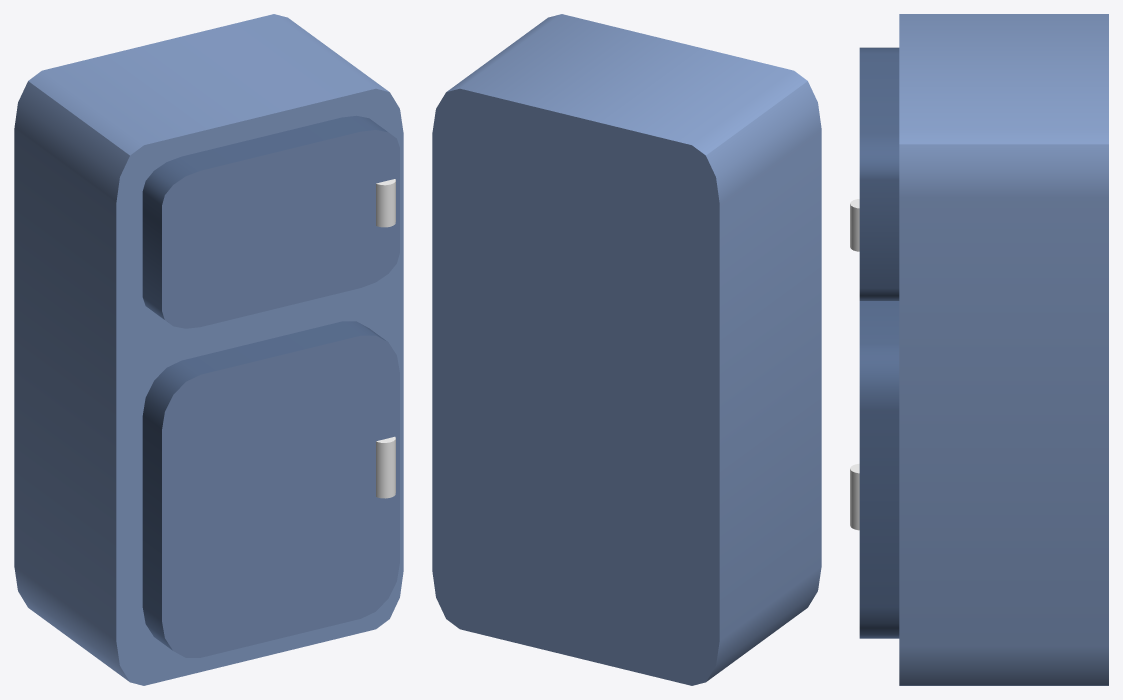
File: Lv2Fridge.fbx
3 renders of one model, left to right at view 1: azimuth 30°, elevation 25°; view 2: azimuth 150°, elevation 25°; view 3: azimuth 270°, elevation 25°, orthographic. The views are drawn at different scales.
Visible parts, largest first — view 1: Lv2Fridge, Lv2FridgeDoor, Lv2UpperFridgeDoor; view 2: Lv2Fridge; view 3: Lv2Fridge, Lv2FridgeDoor, Lv2UpperFridgeDoor.
Part boxes in pixels (bbox=[...]): Lv2Fridge: bbox=[14, 14, 403, 685]; Lv2FridgeDoor: bbox=[142, 321, 399, 657]; Lv2UpperFridgeDoor: bbox=[142, 115, 399, 328]; Lv2Fridge: bbox=[432, 14, 821, 685]; Lv2Fridge: bbox=[899, 14, 1108, 685]; Lv2FridgeDoor: bbox=[850, 301, 899, 638]; Lv2UpperFridgeDoor: bbox=[850, 47, 899, 300].
Bounding box in the file's own units: 78.02 × 140 × 59.2.
